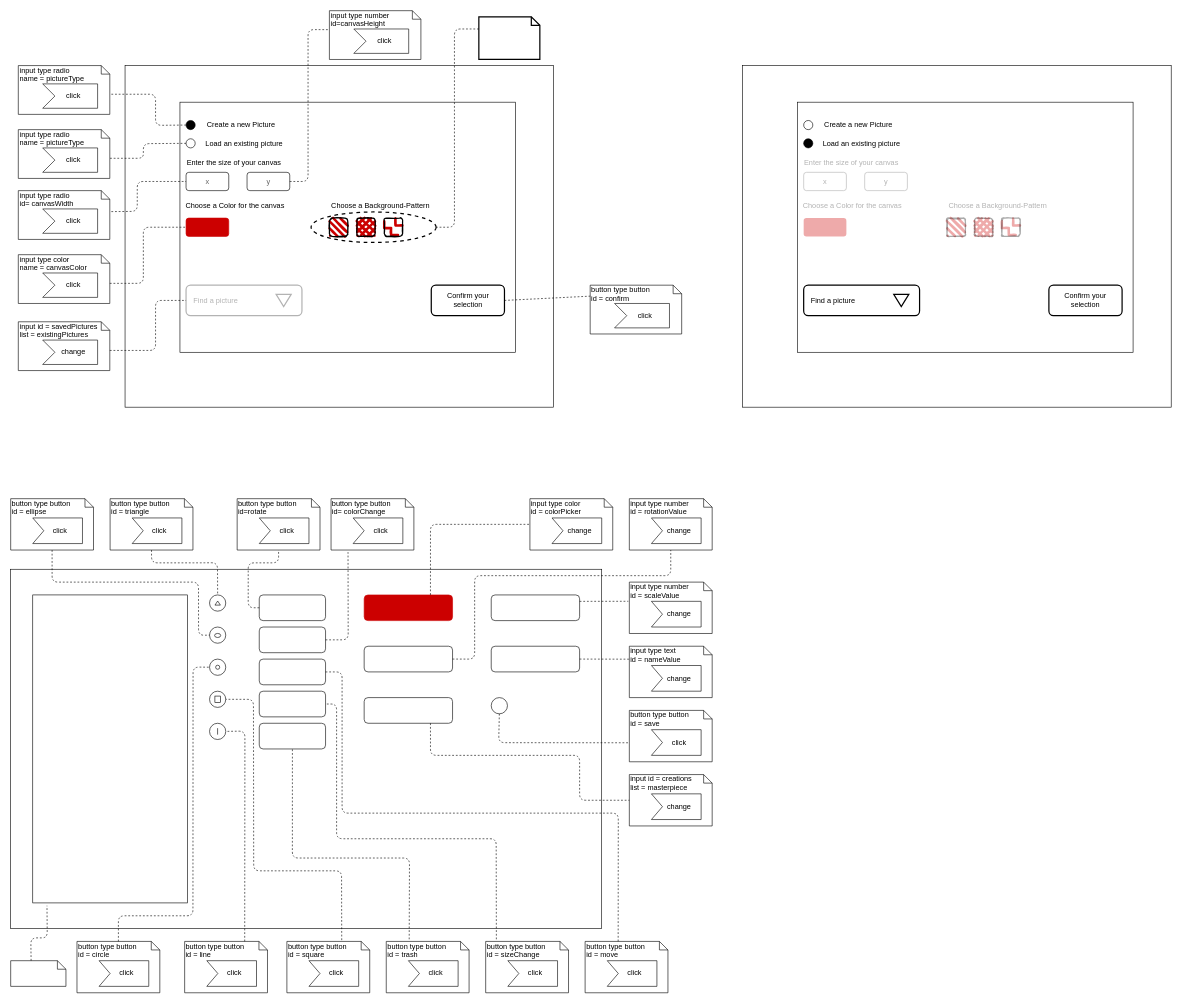
The diagram is 1182 pixels wide and 1003 high, and some of its shapes have lost their labels. The centre of each missing label's shape, as x and y in pixels:
canvas: the point at 38,973
change color: the point at 292,639
change size: the point at 292,704
delete figure: the point at 292,736
enter a name: the point at 535,659
enter a scale-value: the point at 535,607
load a previously created image: the point at 408,710
move: the point at 292,671
Not necessarily the real patterns, just placeholders :): the point at 509,38
rotate: the point at 292,607
rotation: the point at 408,659
